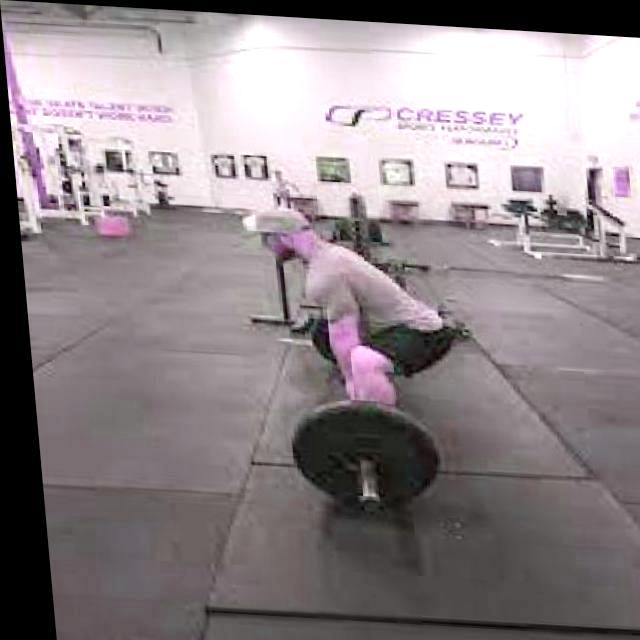barbell: (273, 392, 444, 510)
